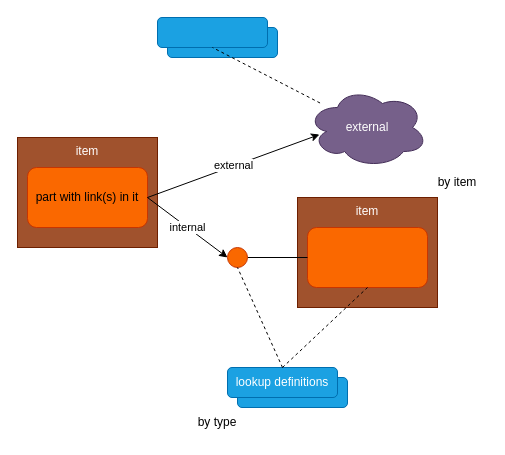
This 505x455 diagram has some shape labels left out. The shapes that lost their labels are listed below. From the top down, each one's centre as x and y in pixels, then its label:
point (212, 32): lookup providers
point (367, 257): part
